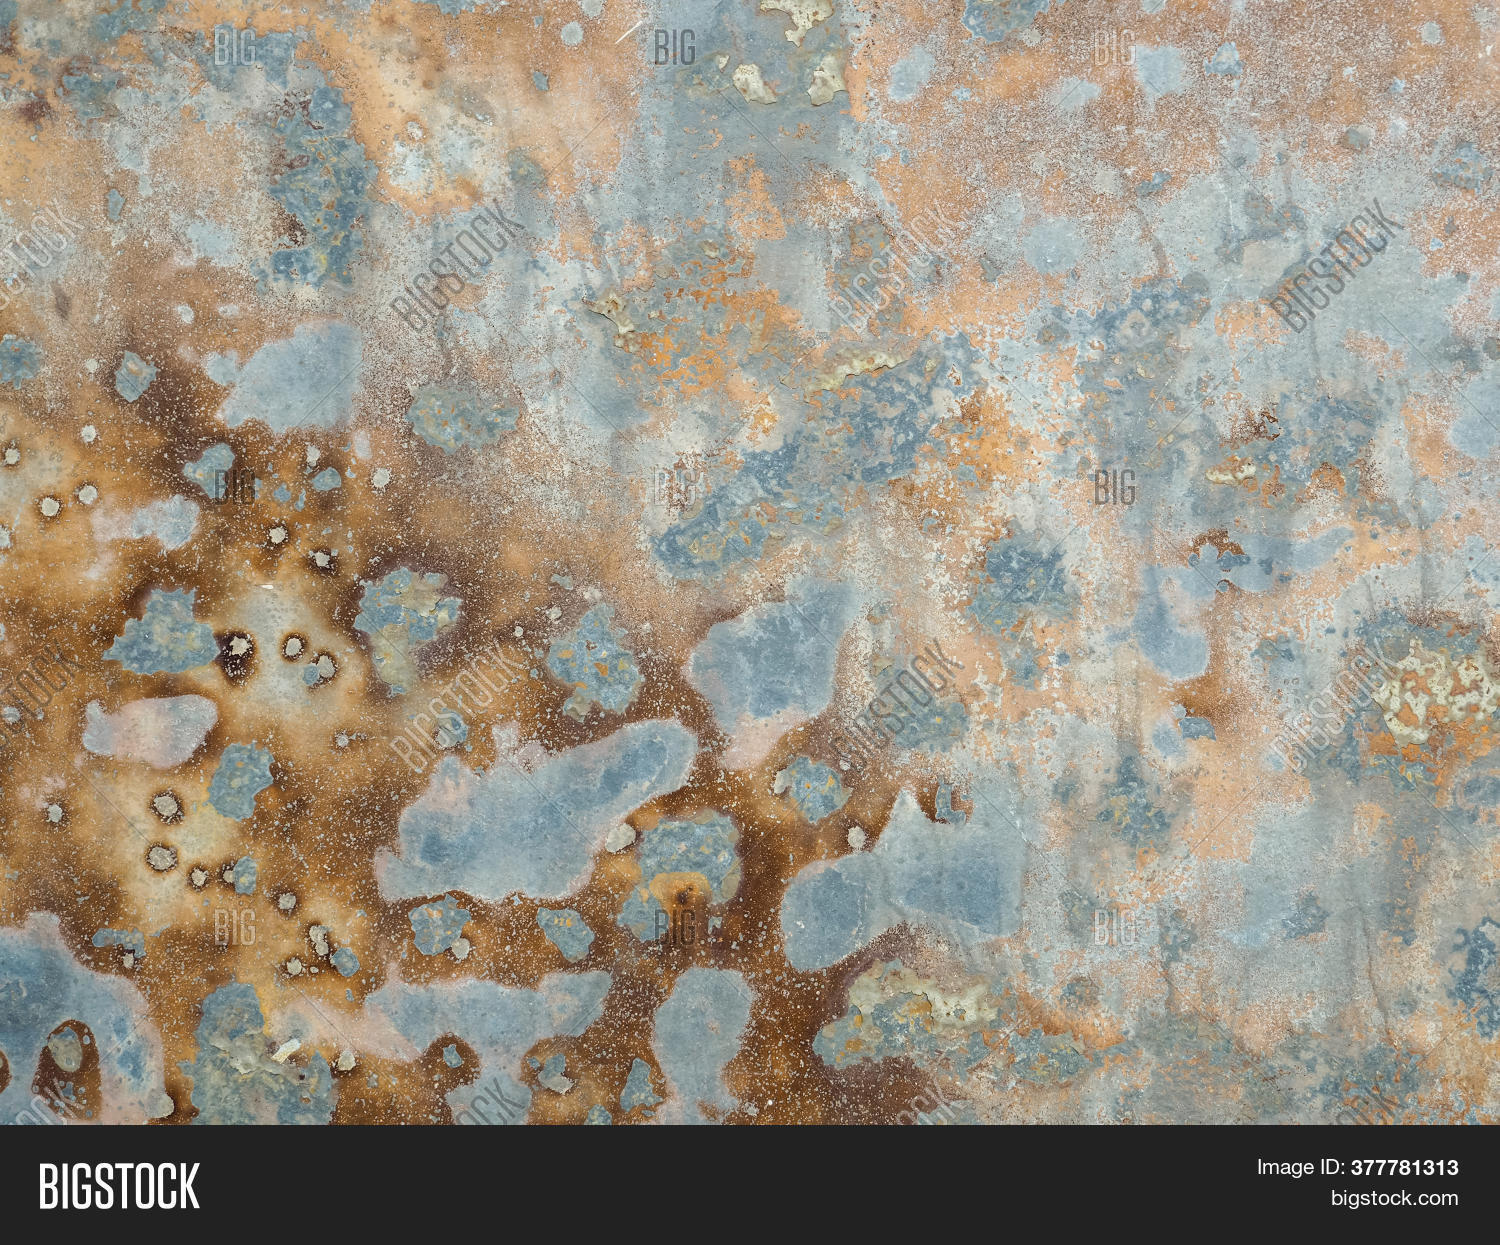rust: (10, 103, 421, 975), (449, 456, 694, 734), (407, 897, 796, 988)
